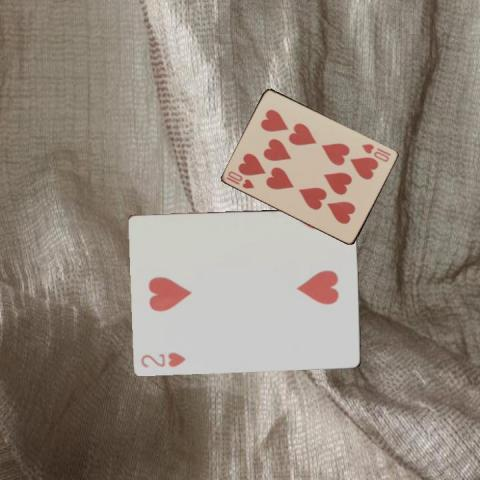10h: (359, 141, 393, 163), (223, 168, 256, 190)
2h: (138, 348, 187, 368)
